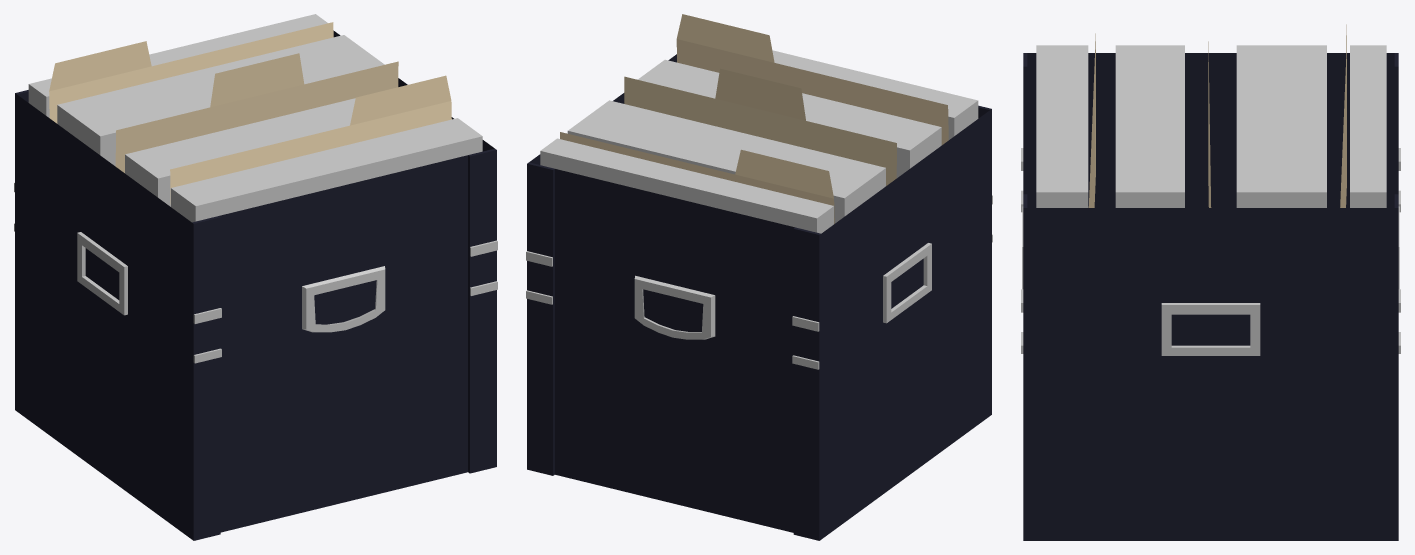
Rendered from FileBox.fbx.
The picture shows the model from 3 angles, left to right: view 1: azimuth 30°, elevation 25°; view 2: azimuth 150°, elevation 25°; view 3: azimuth 270°, elevation 25°; orthographic projection. The views are drawn at different scales.
Parts seen in each view (by area): view 1: FileBox1; view 2: FileBox1; view 3: FileBox1.
Boxes of the visible parts, bbox=[...] form: FileBox1: bbox=[14, 14, 497, 540]; FileBox1: bbox=[526, 14, 992, 540]; FileBox1: bbox=[1021, 24, 1400, 540].
Bounding box in the file's own units: 205 × 237 × 207.
